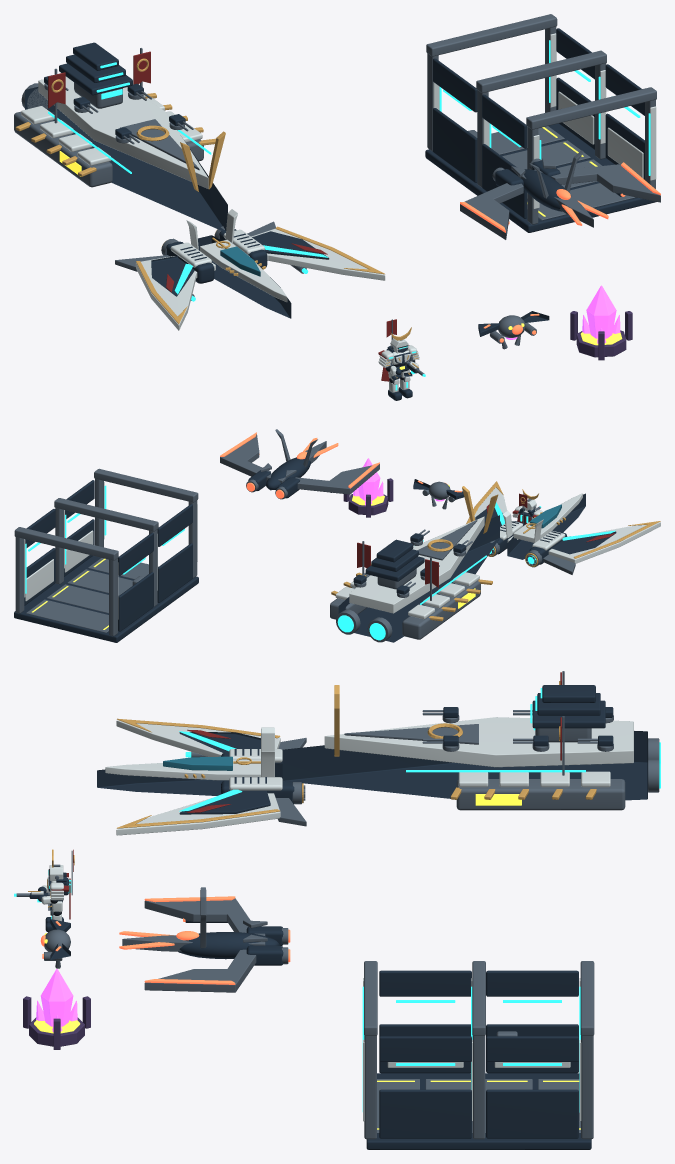
The model's file is novaris-vanguard.glb.
3 views of the same model, one above another, from view 1: azimuth 30°, elevation 25°; view 2: azimuth 150°, elevation 25°; view 3: azimuth 270°, elevation 25° (orthographic). The views are drawn at different scales.
Parts seen in each view (by area): view 1: FS armored main keel, FS top ivory citadel, SC armored deck, SC lower bulkhead -11.9, SC arch crossbeam 3.85, SC arch crossbeam 0, SC arch crossbeam -3.85, EF scythe outrigger 1, FS side hangar hull -1, PF crescent main wing 1, EF scythe outrigger -1, PF longship spear keel (+26 smaller); view 2: FS top ivory citadel, SC armored deck, FS armored main keel, SC deck plate 3, SC lower bulkhead -11.9, SC lower bulkhead -1-1.9, FS side hangar hull -1, SC arch crossbeam 0, SC arch crossbeam 3.85, SC arch crossbeam -3.85, EF scythe outrigger -1, PF crescent main wing -1 (+34 smaller); view 3: FS armored main keel, FS top ivory citadel, SC lower bulkhead 1-1.9, SC lower bulkhead 11.9, SC armored deck, FS side hangar hull 1, SC upper bulkhead -11.9, SC upper bulkhead -1-1.9, SC upper bulkhead 11.9, SC upper bulkhead 1-1.9, PF longship spear keel, PF crescent main wing 1 (+23 smaller).
Part boxes in pixels (x1,y1,x2,y2): FS armored main keel: [25, 87, 227, 231]; FS top ivory citadel: [38, 76, 208, 188]; SC armored deck: [425, 123, 656, 232]; SC lower bulkhead -11.9: [433, 108, 477, 182]; SC arch crossbeam 3.85: [426, 14, 557, 56]; SC arch crossbeam 0: [476, 50, 606, 93]; SC arch crossbeam -3.85: [526, 87, 656, 129]; EF scythe outrigger 1: [551, 164, 660, 202]; FS side hangar hull -1: [14, 111, 112, 187]; PF crescent main wing 1: [251, 228, 385, 280]; EF scythe outrigger -1: [460, 183, 523, 239]; PF longship spear keel: [198, 235, 291, 318]; FS top ivory citadel: [349, 516, 484, 613]; SC armored deck: [14, 556, 198, 642]; FS armored main keel: [338, 515, 499, 642]; SC deck plate 3: [26, 599, 108, 632]; SC lower bulkhead -11.9: [118, 572, 153, 631]; SC lower bulkhead -1-1.9: [157, 543, 192, 602]; FS side hangar hull -1: [402, 580, 480, 639]; SC arch crossbeam 0: [54, 498, 158, 531]; SC arch crossbeam 3.85: [14, 527, 118, 560]; SC arch crossbeam -3.85: [94, 468, 198, 502]; EF scythe outrigger -1: [295, 464, 379, 494]; PF crescent main wing -1: [548, 522, 660, 563]; FS armored main keel: [282, 731, 647, 800]; FS top ivory citadel: [324, 717, 633, 767]; SC lower bulkhead 1-1.9: [379, 1089, 471, 1138]; SC lower bulkhead 11.9: [486, 1089, 578, 1138]; SC armored deck: [366, 1073, 591, 1149]; FS side hangar hull 1: [456, 779, 625, 810]; SC upper bulkhead -11.9: [486, 970, 578, 996]; SC upper bulkhead -1-1.9: [379, 970, 471, 996]; SC upper bulkhead 11.9: [486, 1036, 578, 1061]; SC upper bulkhead 1-1.9: [379, 1036, 471, 1061]; PF longship spear keel: [97, 764, 282, 795]; PF crescent main wing 1: [116, 793, 280, 835].
Bounding box in the file's own units: 26.5 × 8.3 × 23.
